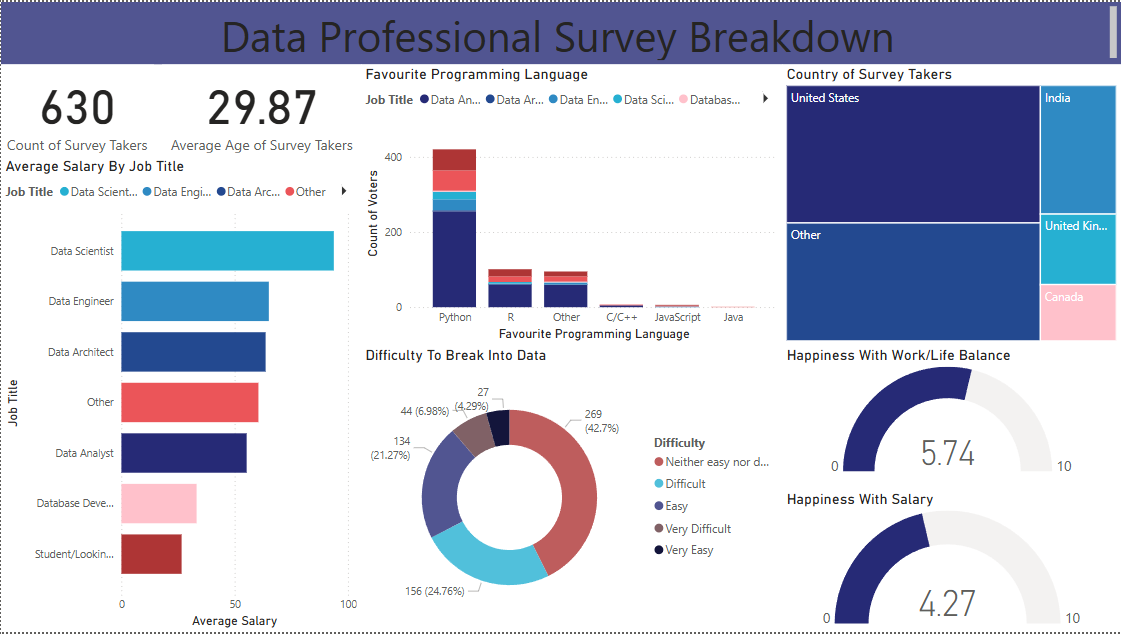

What the dashboard file says about the page in this screenshot:
{"tool":"powerbi","page":{"name":"Page 1","canvas":[1280,720],"ordinal":0},"visuals":[{"type":"textbox","box":[0,0,1280.3,71.4],"z":0},{"type":"card","fields":{"Values":["Count(Data Professional Survey.Unique ID)"]},"box":[0,71.4,174.3,105.7],"z":1},{"type":"card","fields":{"Values":["Avg(Data Professional Survey.Q10 - Current Age)"]},"box":[183.9,71.4,227.8,105.7],"z":2},{"type":"barChart","title":"Average Salary By Job Title","fields":{"Category":["Data Professional Survey.Q1 - Which Title Best Fits your Current Role?.1"],"Y":["Avg(Data Professional Survey.Average Salary)"],"Series":["Data Professional Survey.Q1 - Which Title Best Fits your Current Role?.1"]},"box":[0,177,411.7,543.4],"z":3},{"type":"columnChart","title":"Favourite Programming Language","fields":{"Category":["Data Professional Survey.Q5 - Favorite Programming Language.1"],"Y":["CountNonNull(Data Professional Survey.Unique ID)"],"Series":["Data Professional Survey.Q1 - Which Title Best Fits your Current Role?.1"]},"box":[411.7,71.4,481.6,321.1],"z":4},{"type":"treemap","title":"Country of Survey Takers","fields":{"Group":["Data Professional Survey.Q11 - Which Country do you live in?.1"],"Values":["CountNonNull(Data Professional Survey.Q11 - Which Country do you live in?.1)"]},"box":[893.3,71.4,387,321.1],"z":5},{"type":"gauge","title":"Happiness With Work/Life Balance","fields":{"Y":["Avg(Data Professional Survey.Q6 - How Happy are you in your Current Position with the following? (Work/Life Balance))"],"MinValue":["Min(Data Professional Survey.Q6 - How Happy are you in your Current Position with the following? (Work/Life Balance))"],"MaxValue":["Max(Data Professional Survey.Q6 - How Happy are you in your Current Position with the following? (Work/Life Balance))"]},"box":[893.3,392.5,387,153.7],"z":6},{"type":"gauge","title":"Happiness With Salary","fields":{"Y":["Avg(Data Professional Survey.Q6 - How Happy are you in your Current Position with the following? (Salary))"],"MinValue":["Min(Data Professional Survey.Q6 - How Happy are you in your Current Position with the following? (Salary))"],"MaxValue":["Max(Data Professional Survey.Q6 - How Happy are you in your Current Position with the following? (Salary))"]},"box":[893.3,557.1,387,163.3],"z":7},{"type":"donutChart","title":"Difficulty To Break Into Data","fields":{"Category":["Data Professional Survey.Q7 - How difficult was it for you to break into Data?"],"Y":["CountNonNull(Data Professional Survey.Q7 - How difficult was it for you to break into Data?)"]},"box":[411.7,392.5,481.6,328],"z":8}]}

Visuals, with their boxes in screenshot pixels (x1, y1, x2, y2), scaled from the page's 1280x720 canvas onto the 1121x634 screenshot:
textbox: pyautogui.locateOnScreen(0, 0, 1120, 63)
card - Count(Data Professional Survey.Unique ID): pyautogui.locateOnScreen(0, 63, 153, 156)
card - Avg(Data Professional Survey.Q10 - Current Age): pyautogui.locateOnScreen(161, 63, 361, 156)
"Average Salary By Job Title" barChart: pyautogui.locateOnScreen(0, 156, 361, 633)
"Favourite Programming Language" columnChart: pyautogui.locateOnScreen(361, 63, 782, 346)
"Country of Survey Takers" treemap: pyautogui.locateOnScreen(782, 63, 1120, 346)
"Happiness With Work/Life Balance" gauge: pyautogui.locateOnScreen(782, 346, 1120, 481)
"Happiness With Salary" gauge: pyautogui.locateOnScreen(782, 491, 1120, 633)
"Difficulty To Break Into Data" donutChart: pyautogui.locateOnScreen(361, 346, 782, 633)
